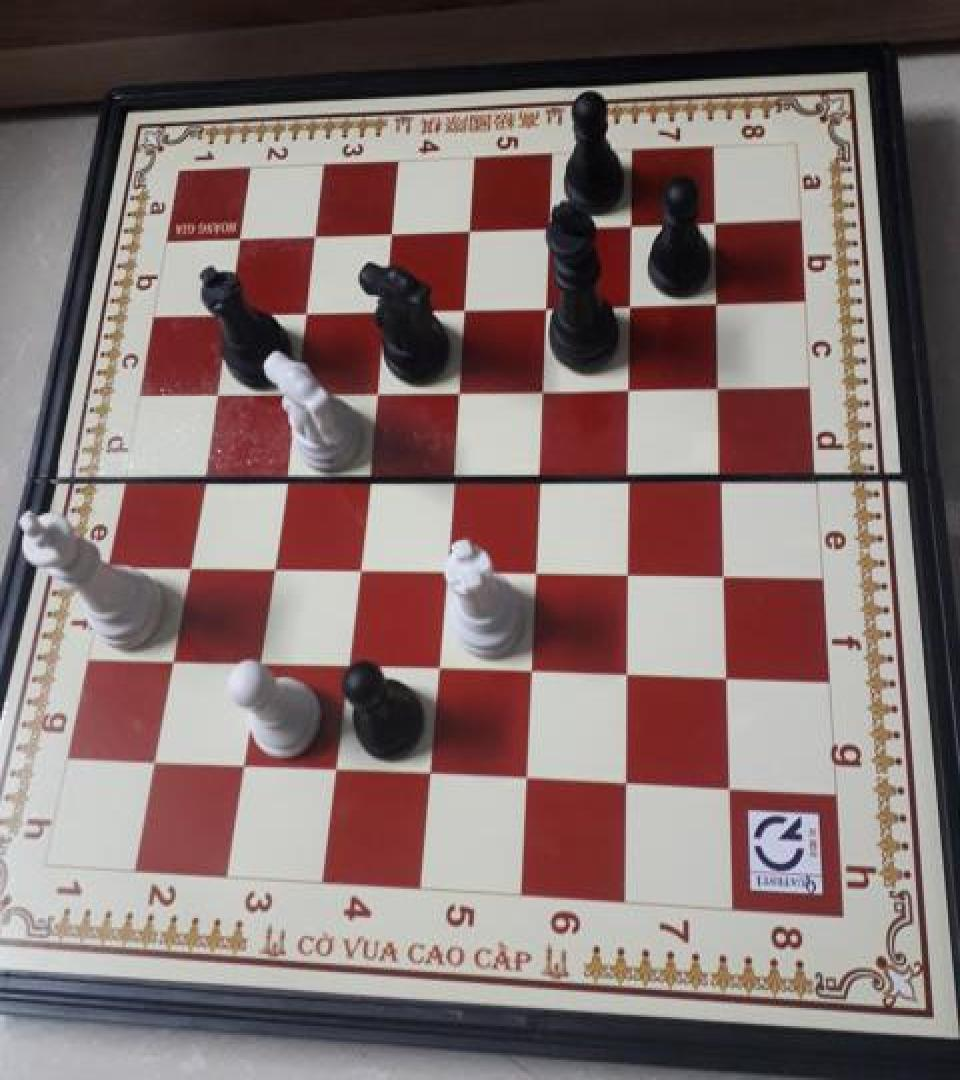xcorner: (697, 201, 731, 240), (286, 291, 320, 330), (276, 371, 310, 410), (613, 205, 647, 243), (531, 207, 565, 245), (451, 210, 485, 248), (372, 213, 406, 251), (296, 216, 330, 254), (222, 218, 256, 256), (699, 282, 733, 320), (612, 284, 646, 322), (527, 286, 561, 324), (445, 287, 479, 325), (365, 289, 399, 327), (210, 292, 244, 330), (701, 367, 735, 405), (611, 368, 645, 406), (524, 368, 558, 406), (439, 369, 473, 407), (356, 370, 390, 408), (197, 372, 231, 410), (703, 457, 737, 495), (610, 457, 644, 495), (520, 457, 554, 495), (433, 457, 467, 495), (347, 457, 381, 495), (264, 457, 298, 495), (183, 456, 217, 494), (705, 554, 739, 592), (609, 552, 643, 590), (516, 552, 550, 590), (426, 549, 460, 587), (338, 548, 372, 586), (252, 547, 286, 585), (169, 546, 203, 584), (707, 658, 741, 696), (608, 655, 642, 693), (512, 652, 546, 690), (419, 649, 453, 687), (328, 646, 362, 684), (240, 644, 274, 682), (154, 640, 188, 678), (710, 770, 744, 808), (607, 765, 641, 803), (508, 760, 542, 798), (411, 755, 445, 793), (317, 750, 351, 788), (226, 746, 260, 784), (137, 742, 171, 780)
